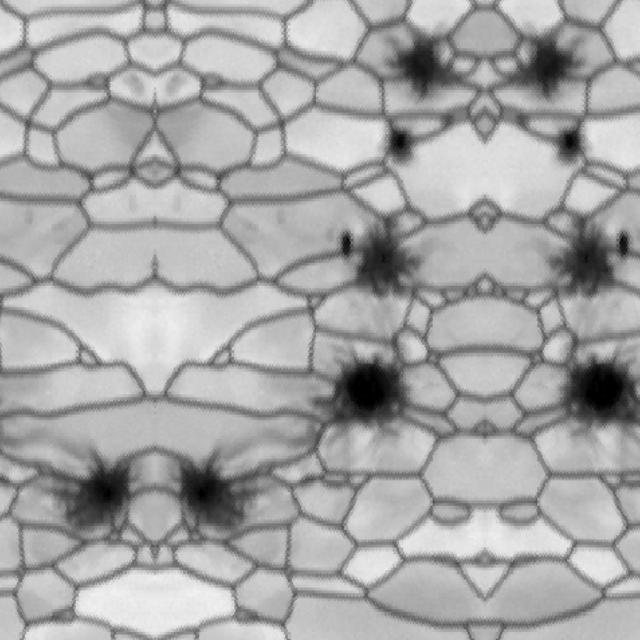good_void: (303, 341, 432, 461), (170, 443, 276, 558), (36, 443, 142, 558), (540, 341, 640, 461), (381, 18, 468, 107), (504, 18, 591, 107), (352, 214, 428, 307), (544, 214, 620, 307), (382, 123, 419, 171), (553, 123, 590, 171), (121, 76, 151, 100), (161, 76, 190, 100), (337, 230, 354, 263), (618, 230, 635, 263), (167, 193, 184, 216), (128, 193, 145, 216)
